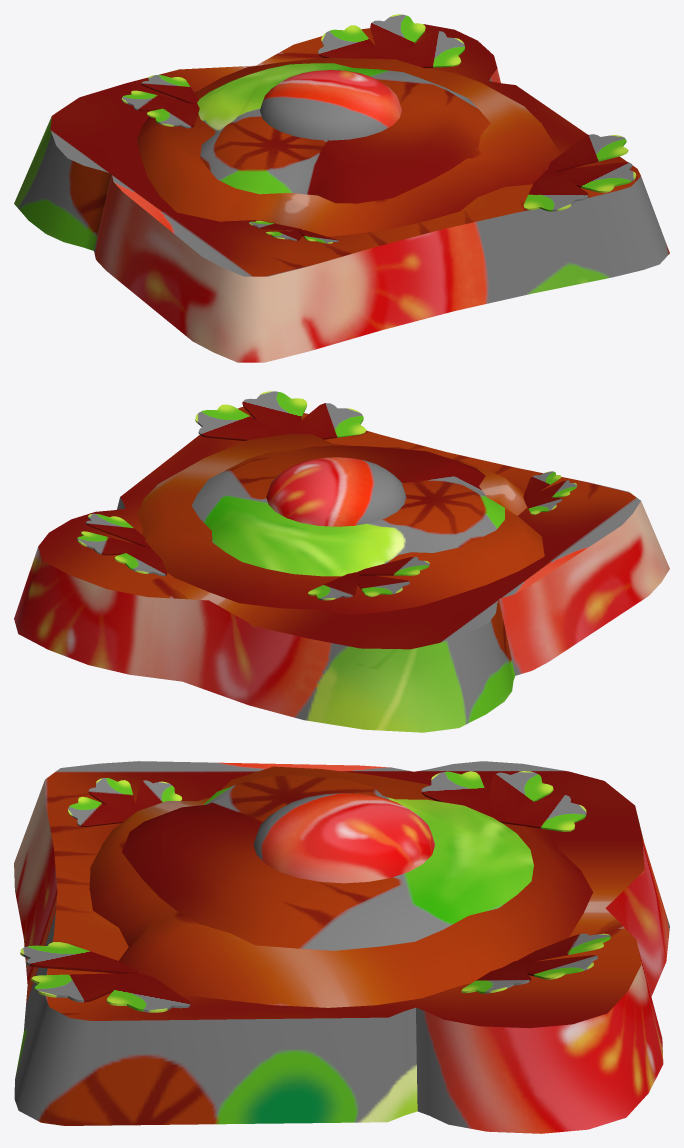
File: 1_3_toast.fbx
The picture shows the model from 3 angles, top to bottom: view 1: azimuth 30°, elevation 25°; view 2: azimuth 150°, elevation 25°; view 3: azimuth 270°, elevation 25°; orthographic projection. The views are drawn at different scales.
Visible parts, largest first — view 1: Circle.060; view 2: Circle.060; view 3: Circle.060.
Boxes of the visible parts, x1=… form: Circle.060: x1=14, y1=14, x2=669, y2=362; Circle.060: x1=14, y1=391, x2=669, y2=732; Circle.060: x1=14, y1=761, x2=669, y2=1133.
Bounding box in the file's own units: 3.27 × 0.9253 × 3.12.
